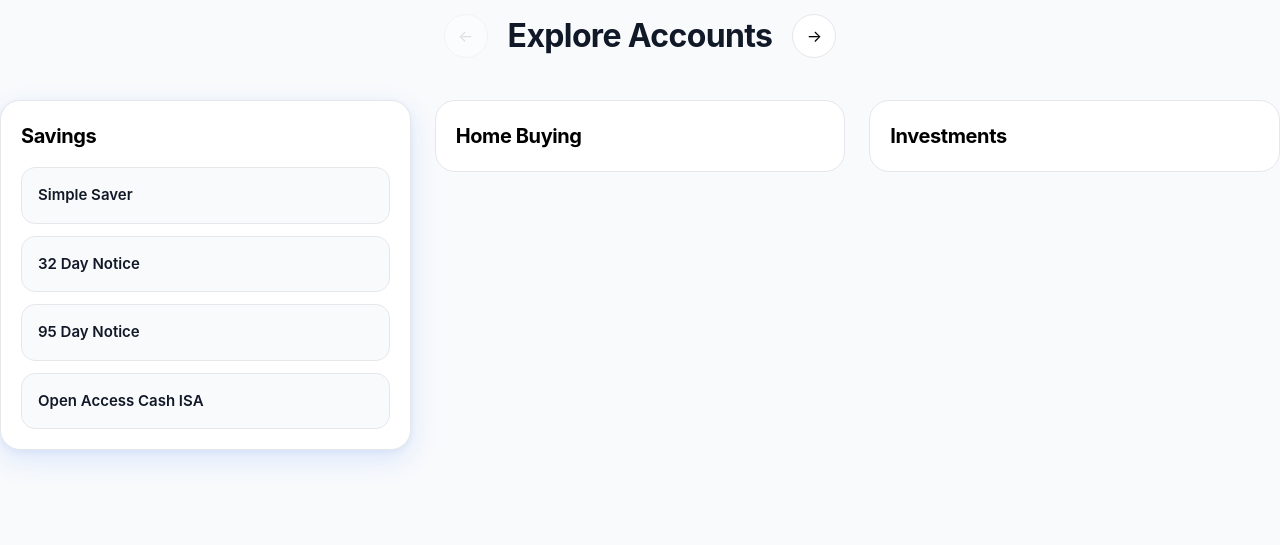
AccountsExplorer › shows a product description when the user opens a product
Click the button "Simple Saver": click(85, 194) top-left (22, 168), bottom-right (389, 222)
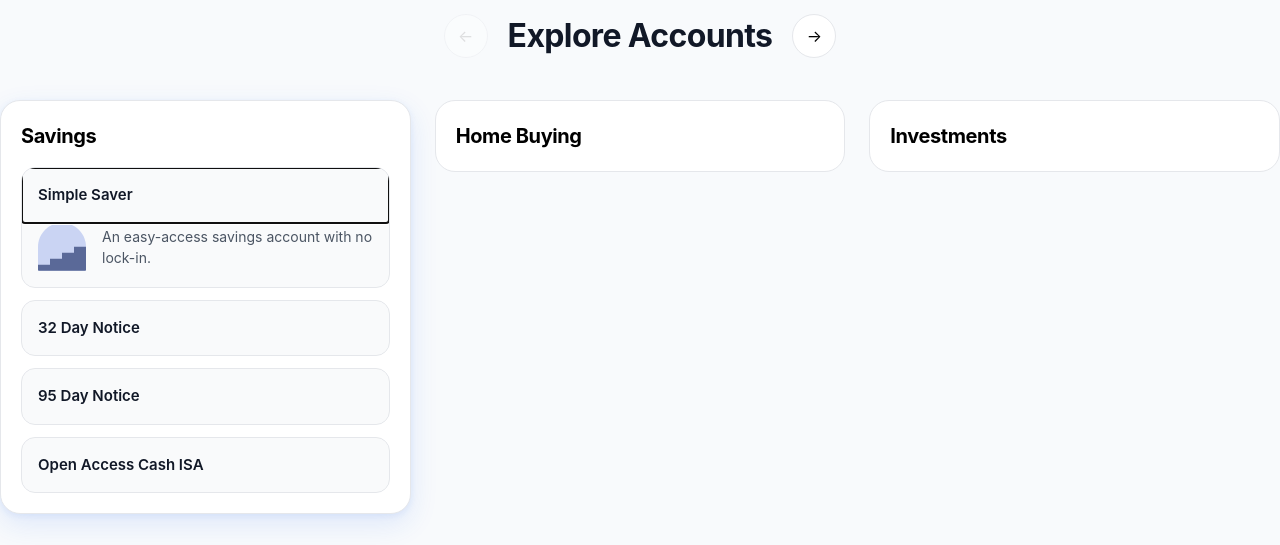
Expected: the text "An easy-access savings account with no lock-in." is shown, top-left (102, 226), bottom-right (373, 268)
